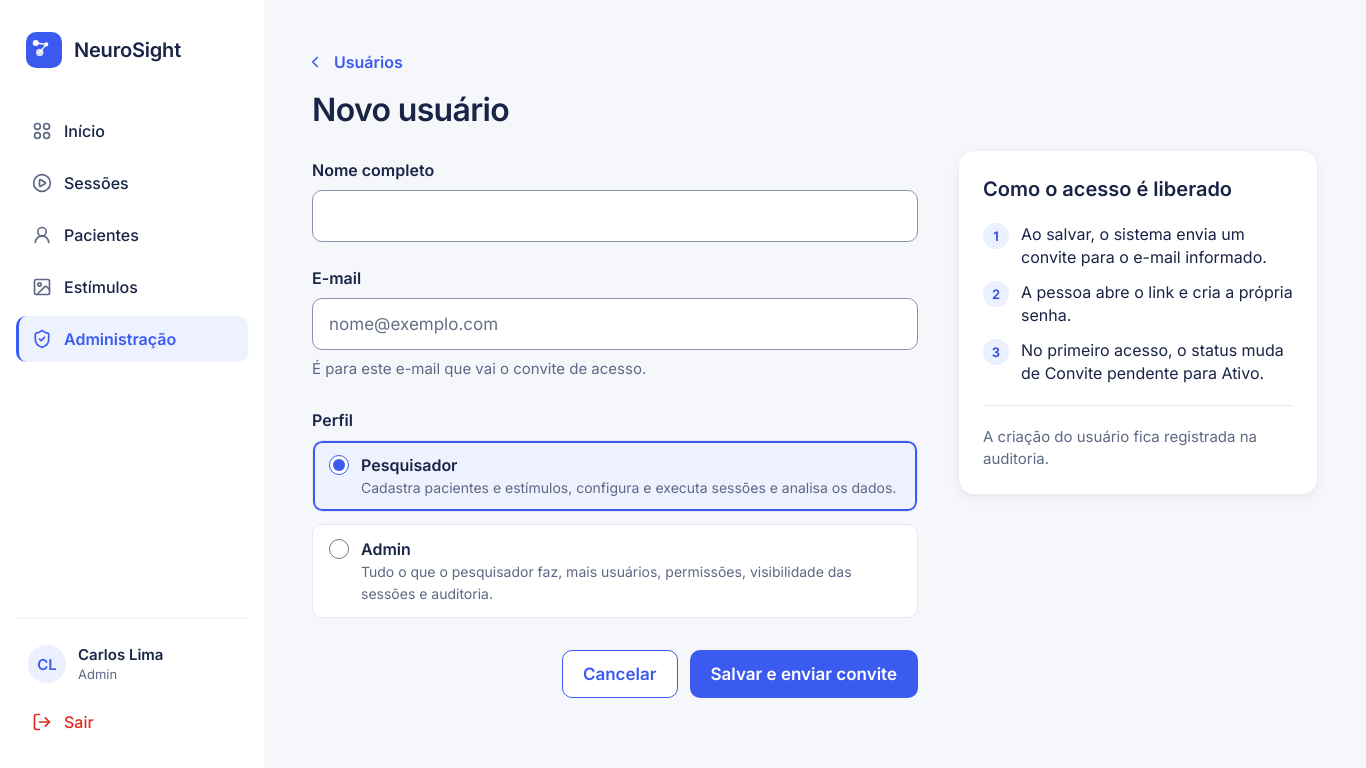
Test: W20 Novo e Editar usuário › novo usuário: valida, cria e mostra o link quando o e-mail não sai
Expected: the heading "Como o acesso é liberado" is shown, [983,175,1232,203]
Expected: the radio button labelled "Pesquisador" is checked, [329,455,349,475]
Click the button "Salvar e enviar convite": click(804, 674) [690,650,918,698]
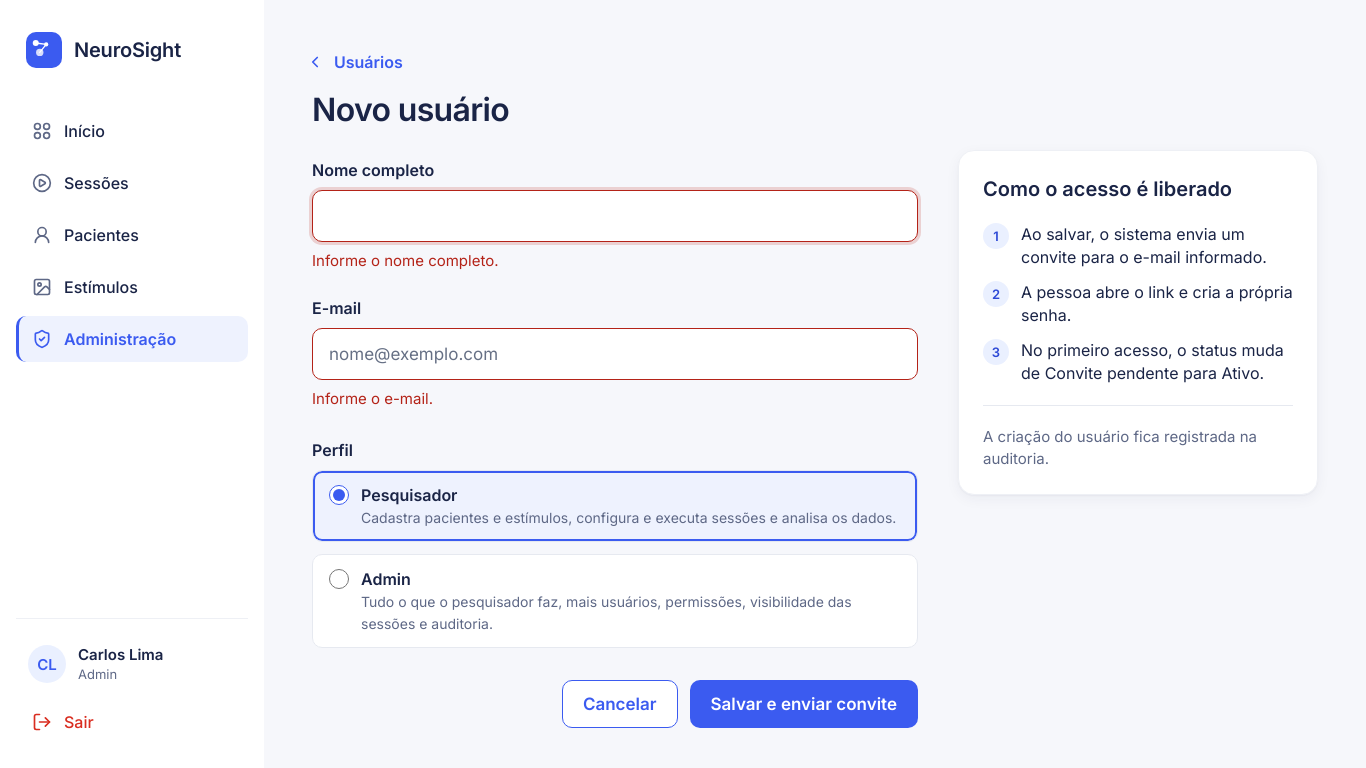
Expected: the text "Informe o nome completo." is shown, [312,251,498,270]
In the field labelled "Nome completo": (615, 216) [312,190,918,242], type "Igor Mendes"
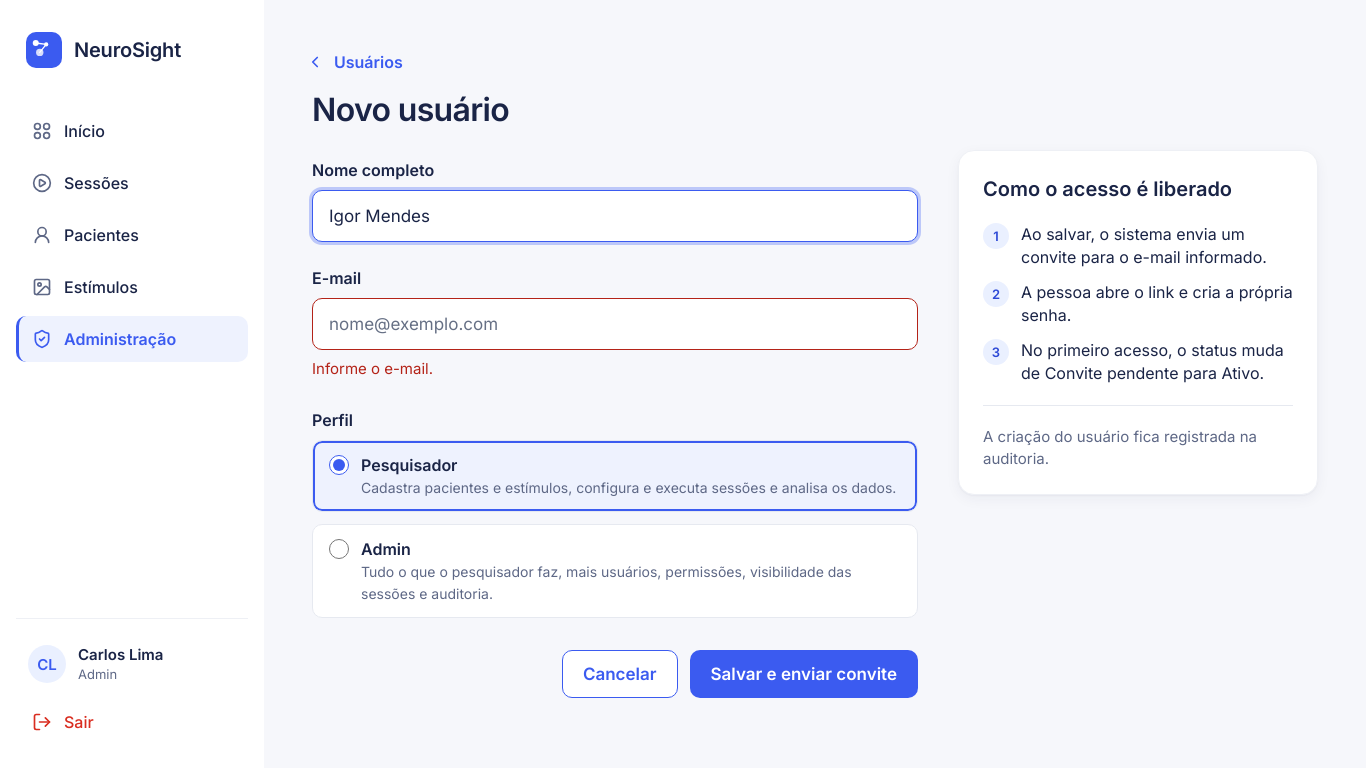
In the field labelled "E-mail": (615, 324) [312,298,918,350], type "igor.mendes@exemplo.com"
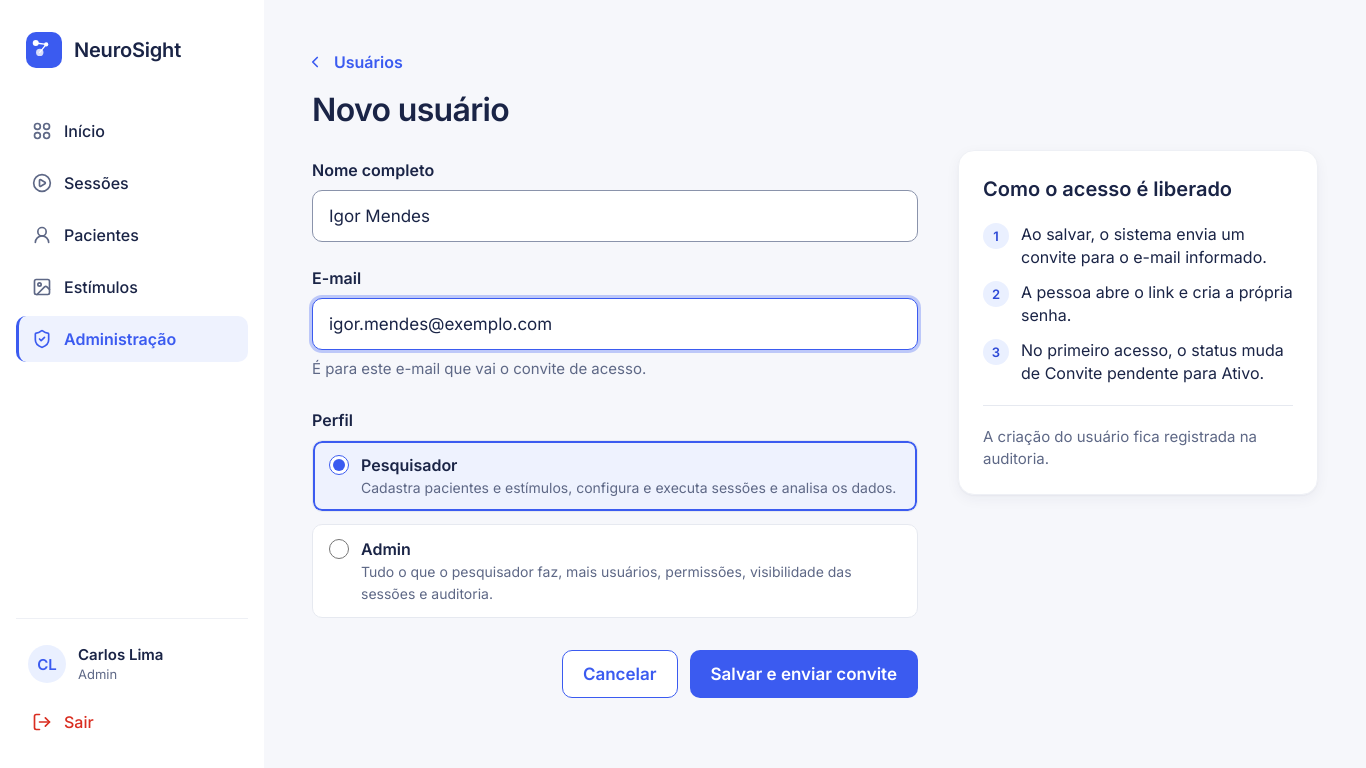
Click the radio button labelled "Admin": click(339, 549) [329,539,349,559]
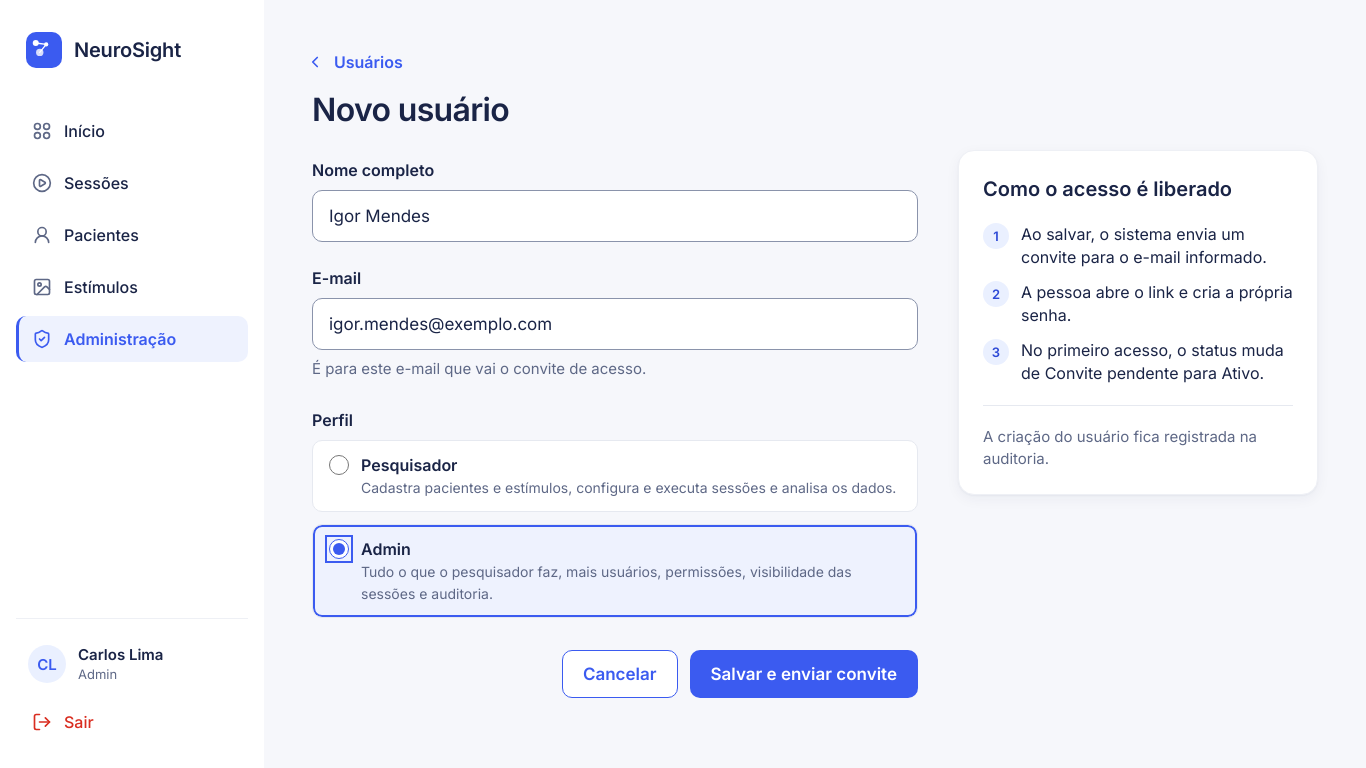
Click the button "Salvar e enviar convite": click(804, 674) [690,650,918,698]
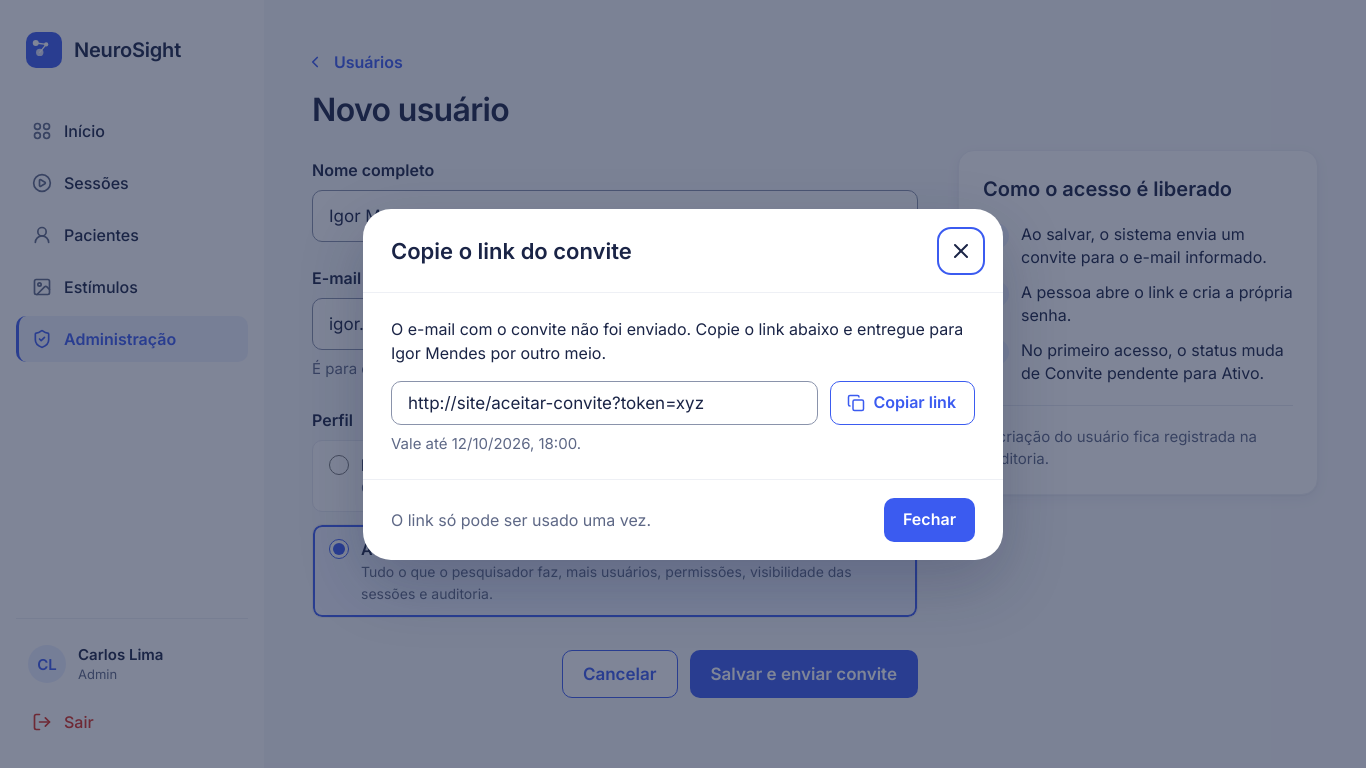
Expected: the dialog shows "entregue para Igor Mendes", [363,208,1003,560]
Click the button named "Fechar": click(961, 250) [941,230,981,270]
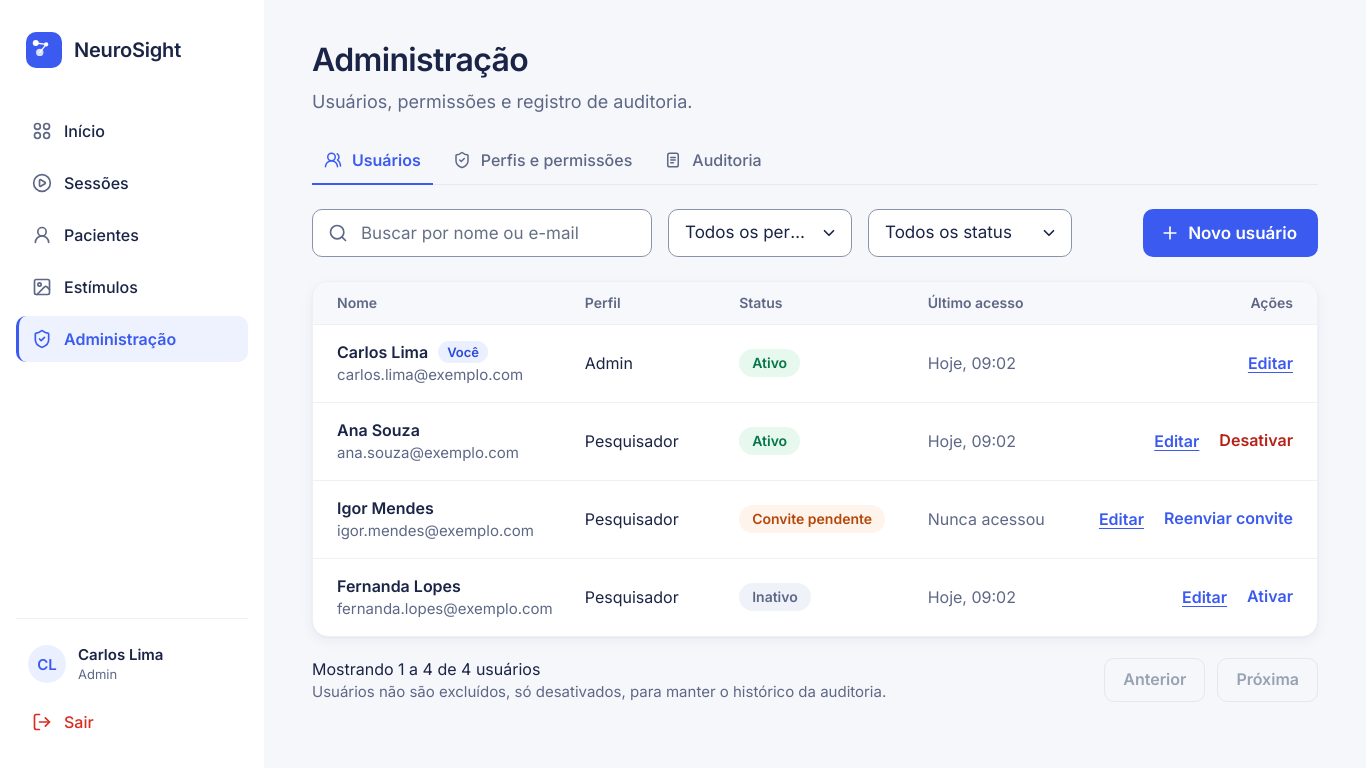
Expected: the heading "Administração" is shown, [312,40,528,80]
